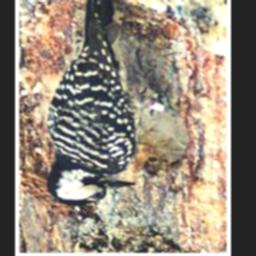Woodpecker: (38, 0, 183, 214)
